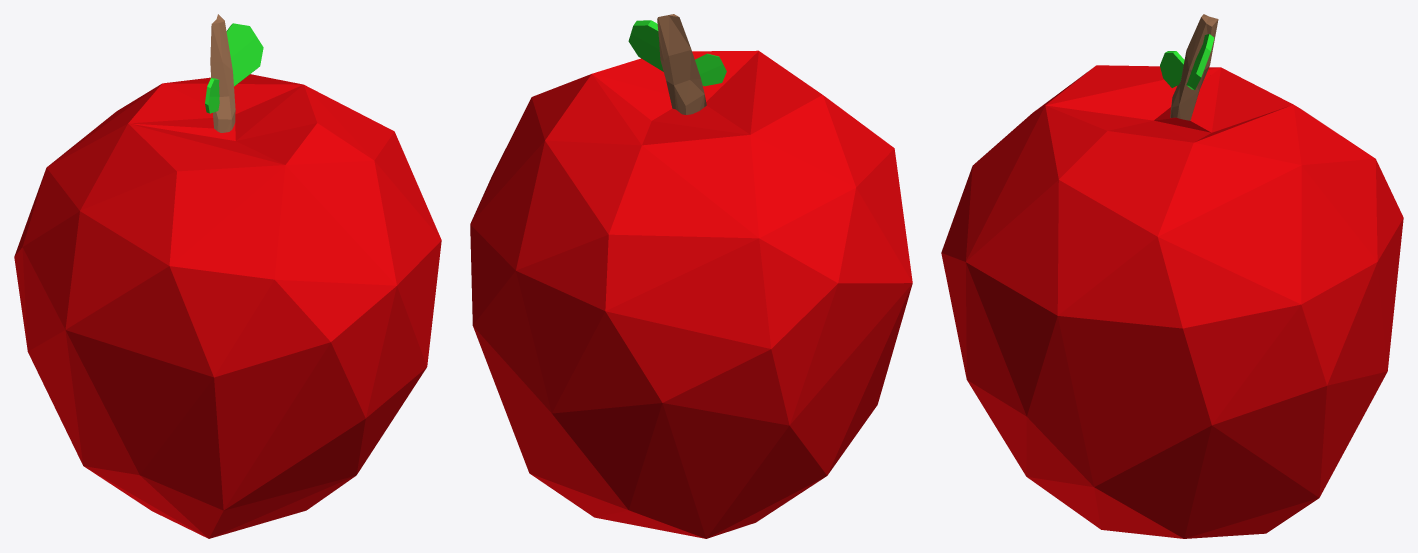
File: Apple.fbx
The picture shows the model from 3 angles, left to right: view 1: azimuth 30°, elevation 25°; view 2: azimuth 150°, elevation 25°; view 3: azimuth 270°, elevation 25°; orthographic projection. The views are drawn at different scales.
Visible parts, largest first — view 1: Cube.016; view 2: Cube.016; view 3: Cube.016.
Part boxes in pixels (left/top/right/bottom): Cube.016: left=14, top=14, right=441, bottom=538; Cube.016: left=470, top=14, right=912, bottom=538; Cube.016: left=941, top=14, right=1403, bottom=538.
Size of the model in its own units: 170 by 205 by 173.
